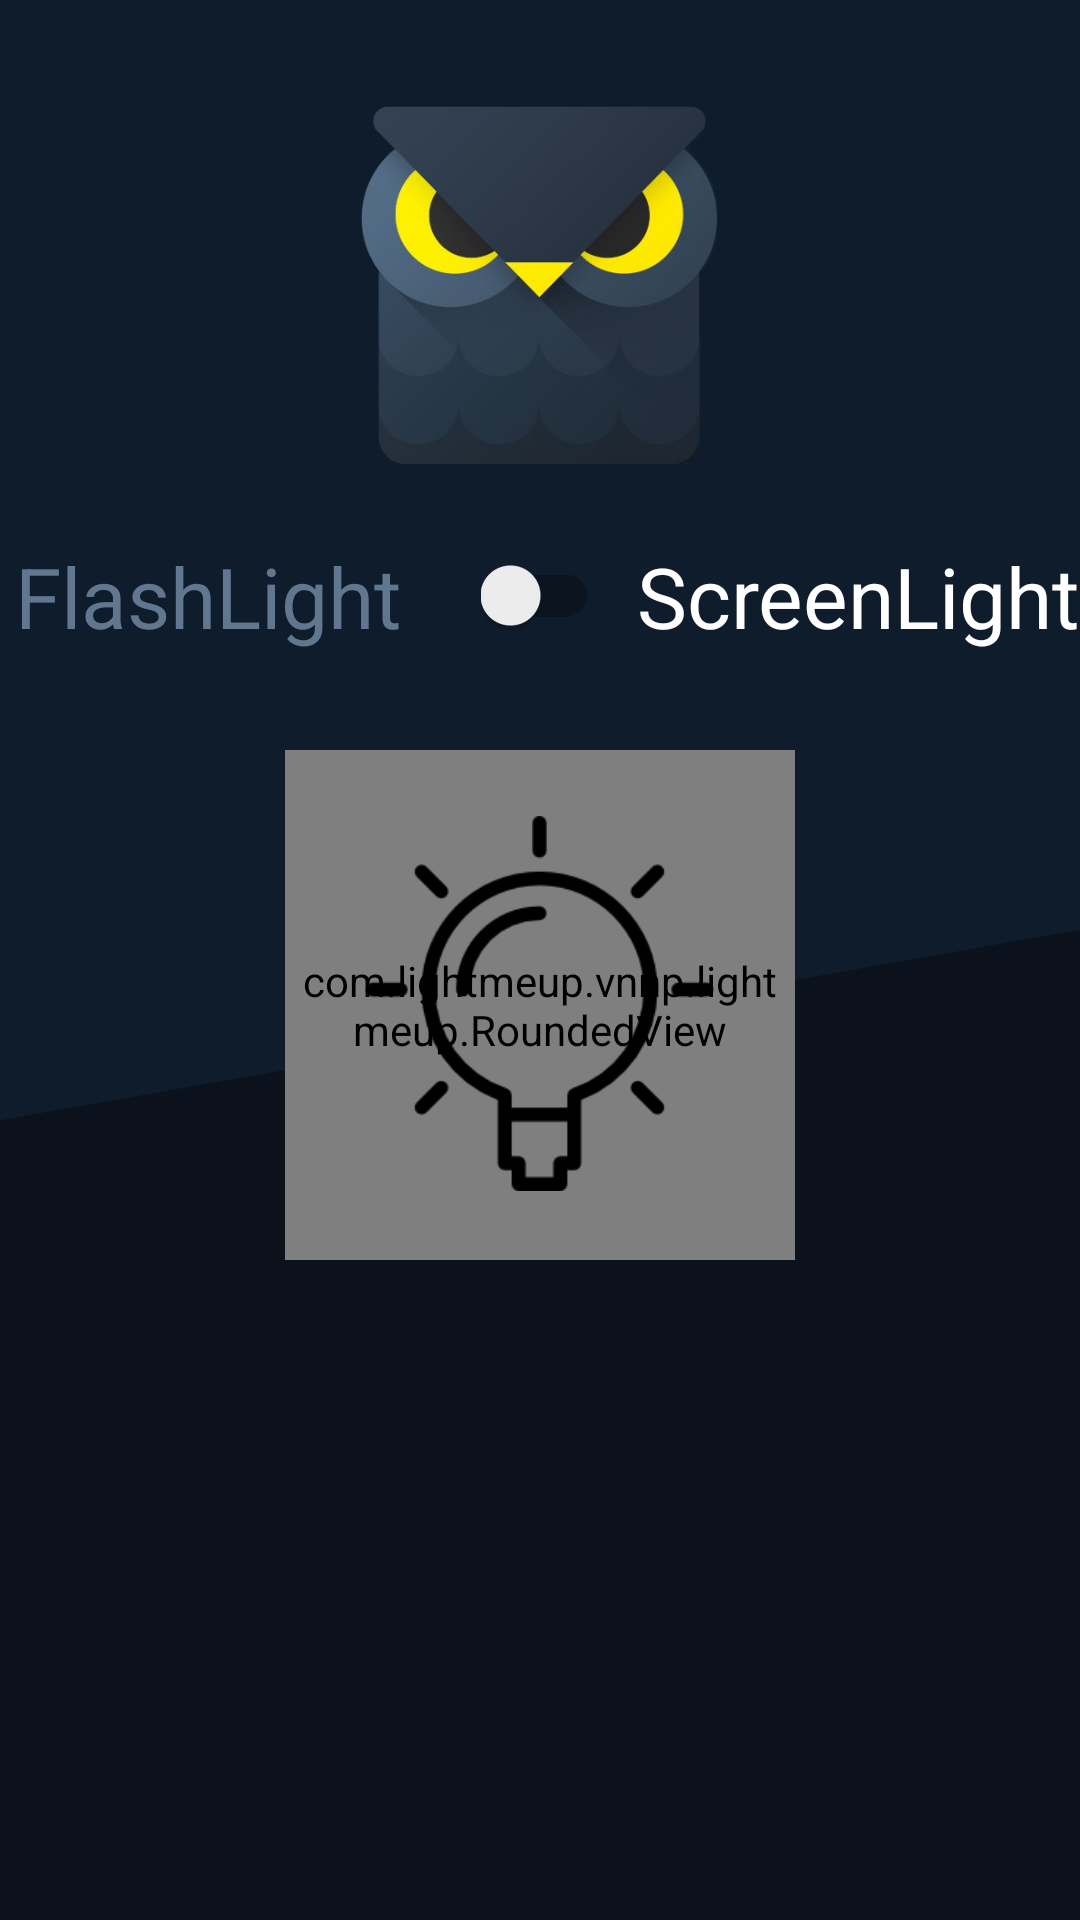

Where to tap for icons on this 1080 x 1920 app screen, as (x,y):
owl: (539,285)
